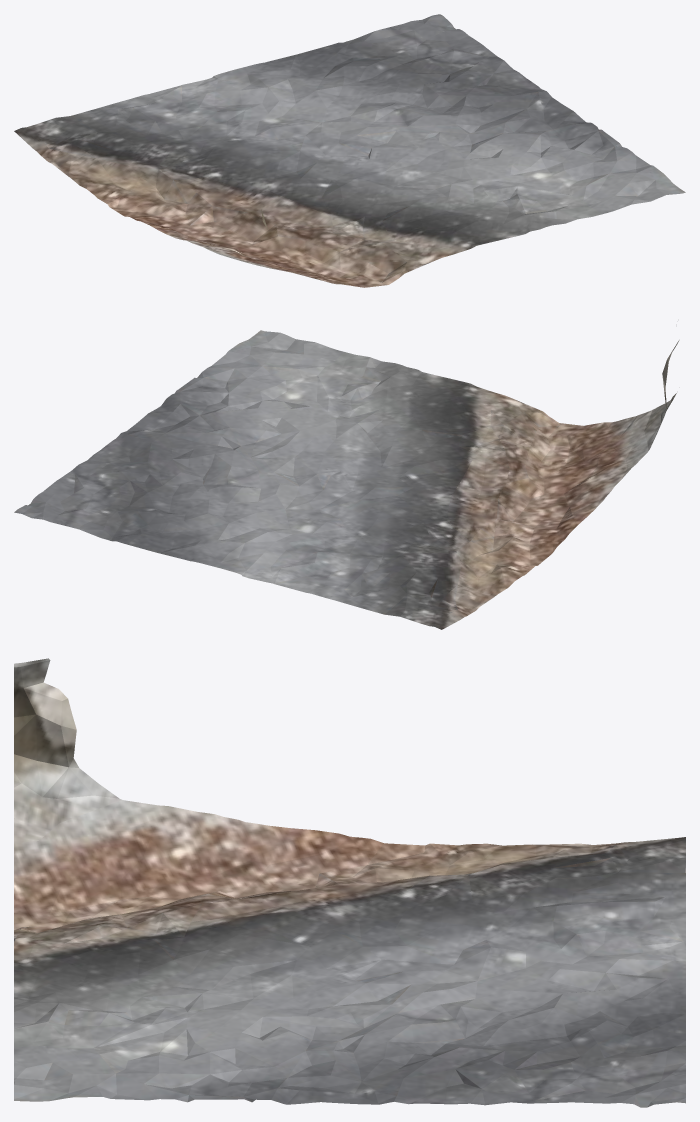
3 views of the same model, one above another, from view 1: azimuth 30°, elevation 25°; view 2: azimuth 150°, elevation 25°; view 3: azimuth 270°, elevation 25° (orthographic). The views are drawn at different scales.
Bounding box in the file's own units: 2.95 × 0.9192 × 2.95.
3 materials, 3 textured.
